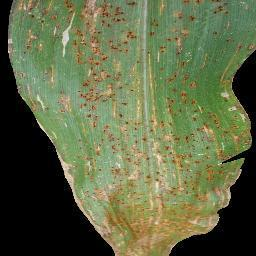Corn_Common_Rust: (5, 0, 256, 154), (17, 157, 245, 256)
